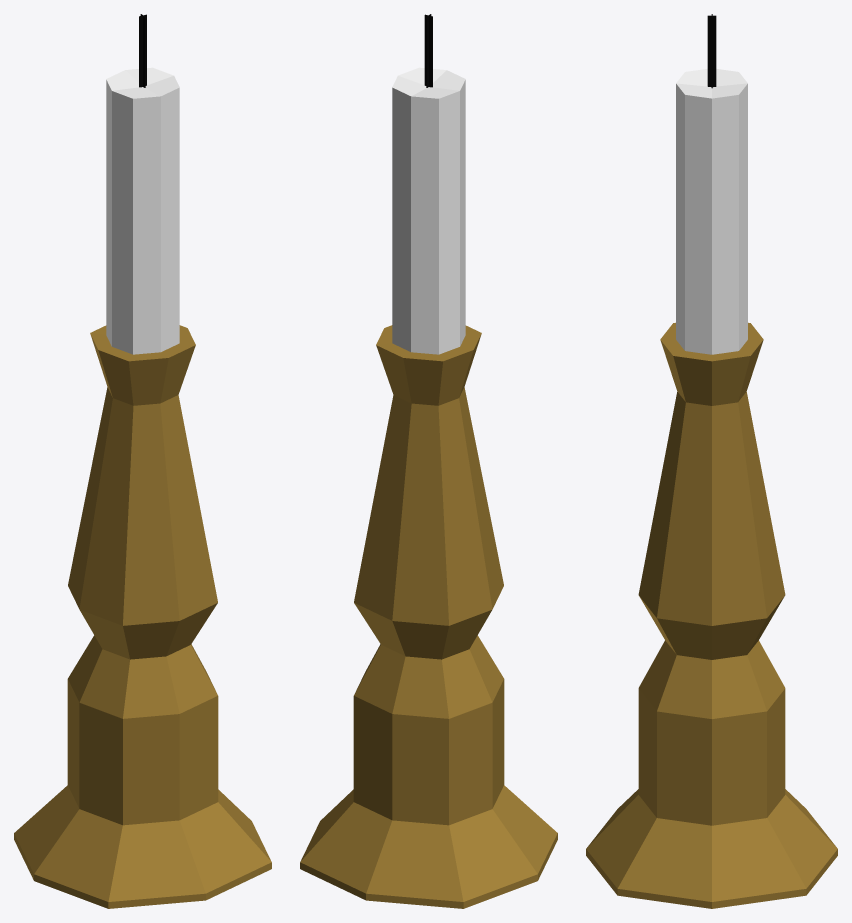
File: Candle.fbx
3 renders of one model, left to right at view 1: azimuth 30°, elevation 25°; view 2: azimuth 150°, elevation 25°; view 3: azimuth 270°, elevation 25°, orthographic.
Parts seen in each view (by area): view 1: Cube; view 2: Cube; view 3: Cube.
Boxes of the visible parts, bbox=[...] form: Cube: bbox=[14, 14, 271, 908]; Cube: bbox=[300, 14, 557, 908]; Cube: bbox=[586, 14, 837, 908].
Bounding box in the file's own units: 240 × 883 × 240.
1 material, 1 textured.
